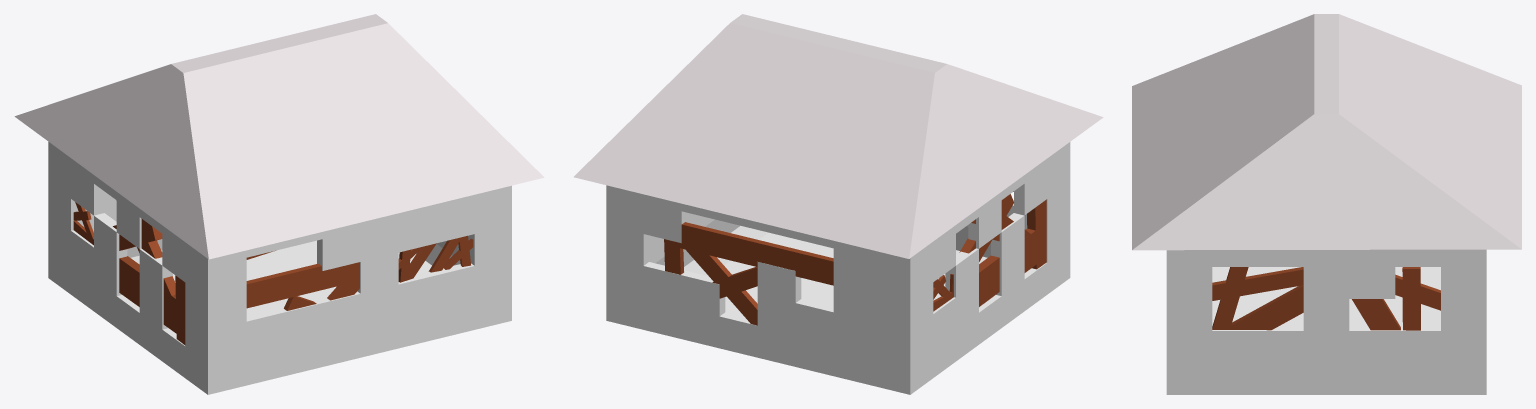
Rendered from House1.fbx.
3 renders of one model, left to right at view 1: azimuth 30°, elevation 25°; view 2: azimuth 150°, elevation 25°; view 3: azimuth 270°, elevation 25°, orthographic.
Visible parts, largest first — view 1: Cube; view 2: Cube; view 3: Cube.
Part boxes in pixels (box(x1,y1,x2,y2)): Cube: box(14, 14, 544, 394); Cube: box(573, 14, 1103, 394); Cube: box(1132, 14, 1521, 394).
Bounding box in the file's own units: 357 × 260 × 358.
